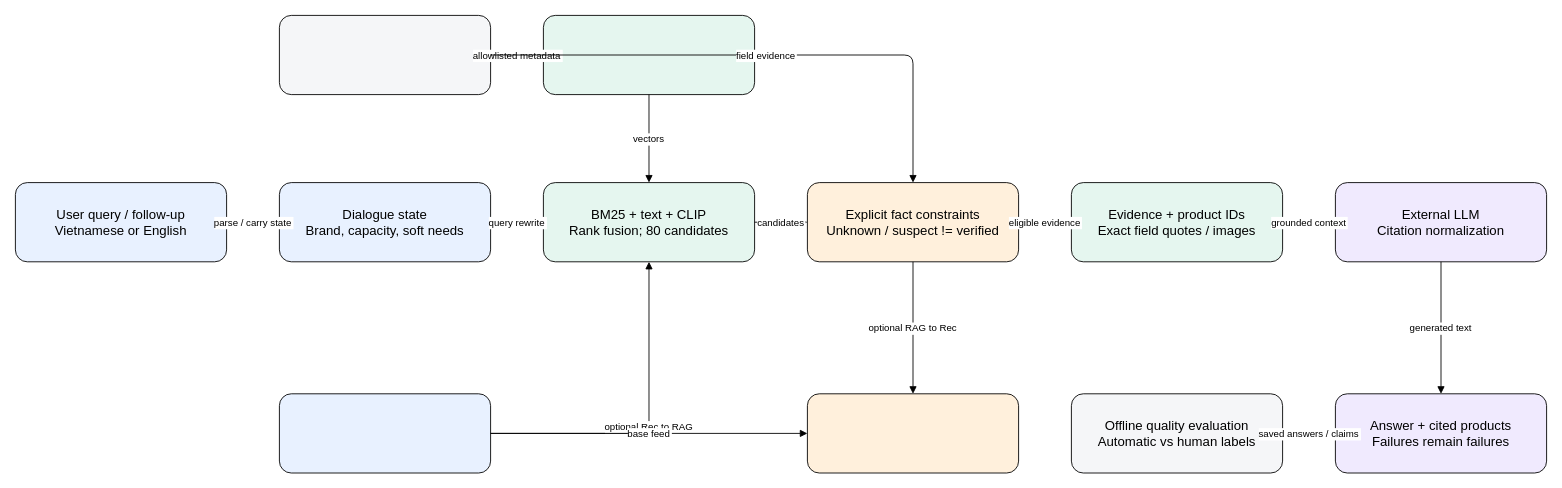
This 1562x488 diagram has some shape labels left out. Each missing label, with the box of its shape:
Frozen MiniLM / CLIP Metadata / actual photos: (543, 15, 755, 95)
Phone catalog metadata No review/rating input: (279, 15, 491, 95)
Query-conditioned feed Seen / fact filters + reward: (807, 393, 1019, 473)
Train-history recommender Separate offline/browser profiles: (279, 393, 491, 473)
